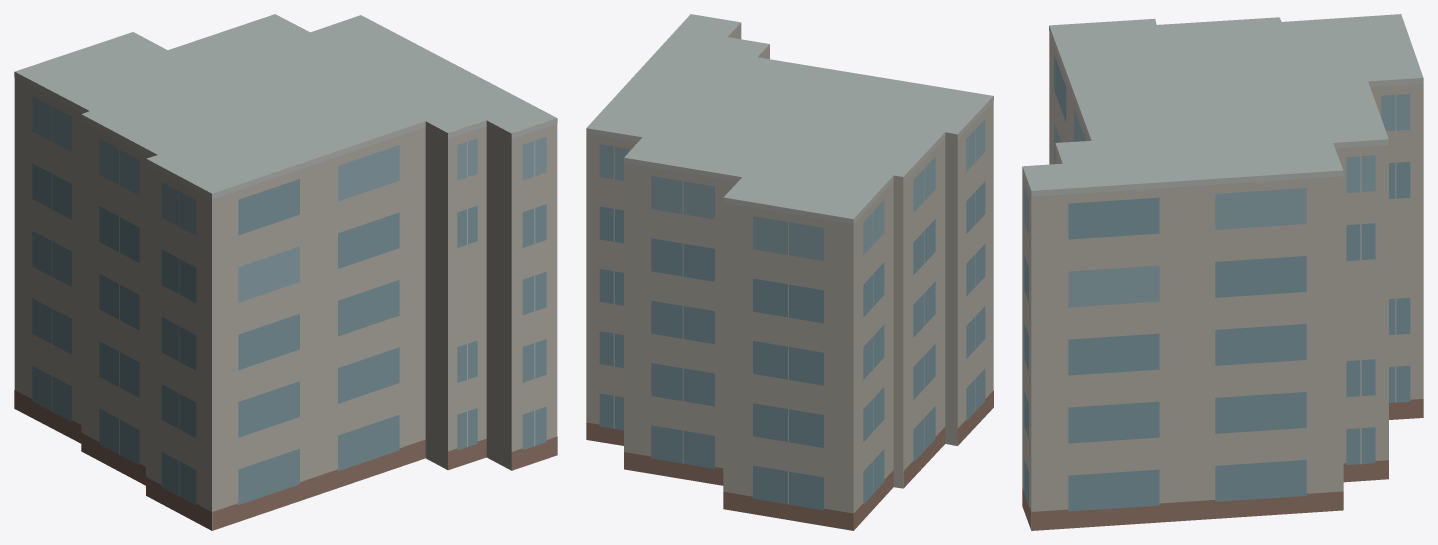
Rendered from survey-upis-32827630.glb.
3 views of the same model, side by side, from view 1: azimuth 30°, elevation 25°; view 2: azimuth 150°, elevation 25°; view 3: azimuth 270°, elevation 25° (orthographic). The views are drawn at different scales.
Visible parts, largest first — view 1: survey-upis-32827630.tmp; view 2: survey-upis-32827630.tmp; view 3: survey-upis-32827630.tmp.
Part boxes in pixels (box(x1,y1,x2,y2)): survey-upis-32827630.tmp: box(14, 14, 557, 530); survey-upis-32827630.tmp: box(586, 14, 993, 530); survey-upis-32827630.tmp: box(1022, 14, 1423, 530).
Bounding box in the file's own units: 16.08 × 14.4 × 15.41.
